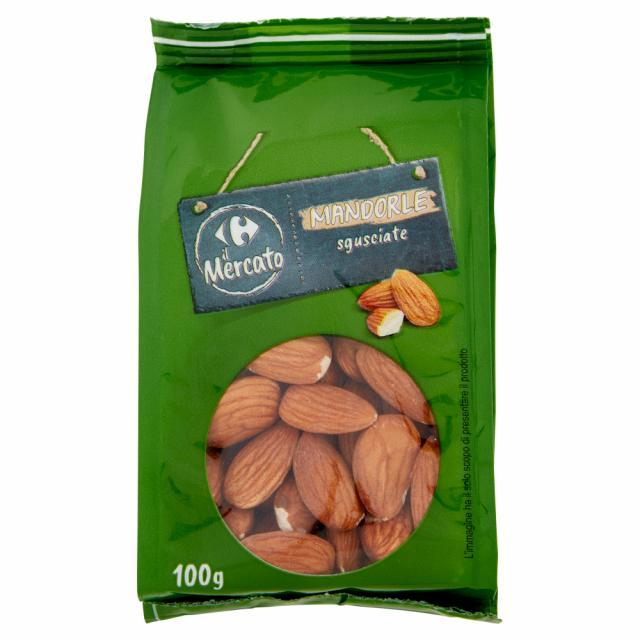Frutta secca: (234, 369, 396, 548)
